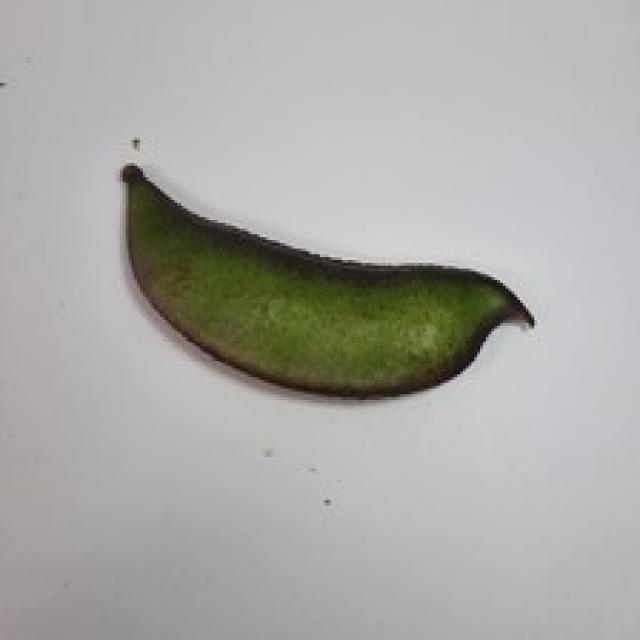Bean: (117, 160, 534, 400)
